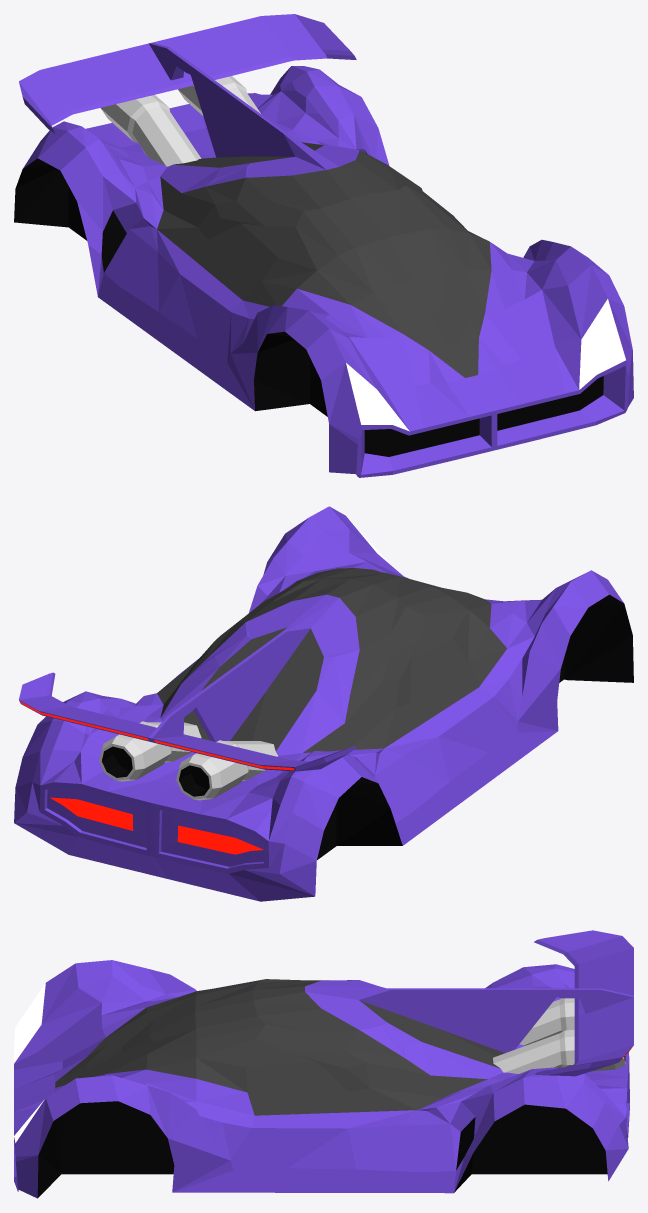
The model's file is spyder.glb.
3 renders of one model, top to bottom at view 1: azimuth 30°, elevation 25°; view 2: azimuth 150°, elevation 25°; view 3: azimuth 270°, elevation 25°, orthographic. The views are drawn at different scales.
Parts seen in each view (by area): view 1: Cube; view 2: Cube; view 3: Cube.
Boxes of the visible parts, left/top/right/bottom form: Cube: left=14, top=14, right=633, bottom=477; Cube: left=14, top=506, right=633, bottom=901; Cube: left=14, top=930, right=633, bottom=1198.
Bounding box in the file's own units: 1.93 × 1.01 × 3.76.
